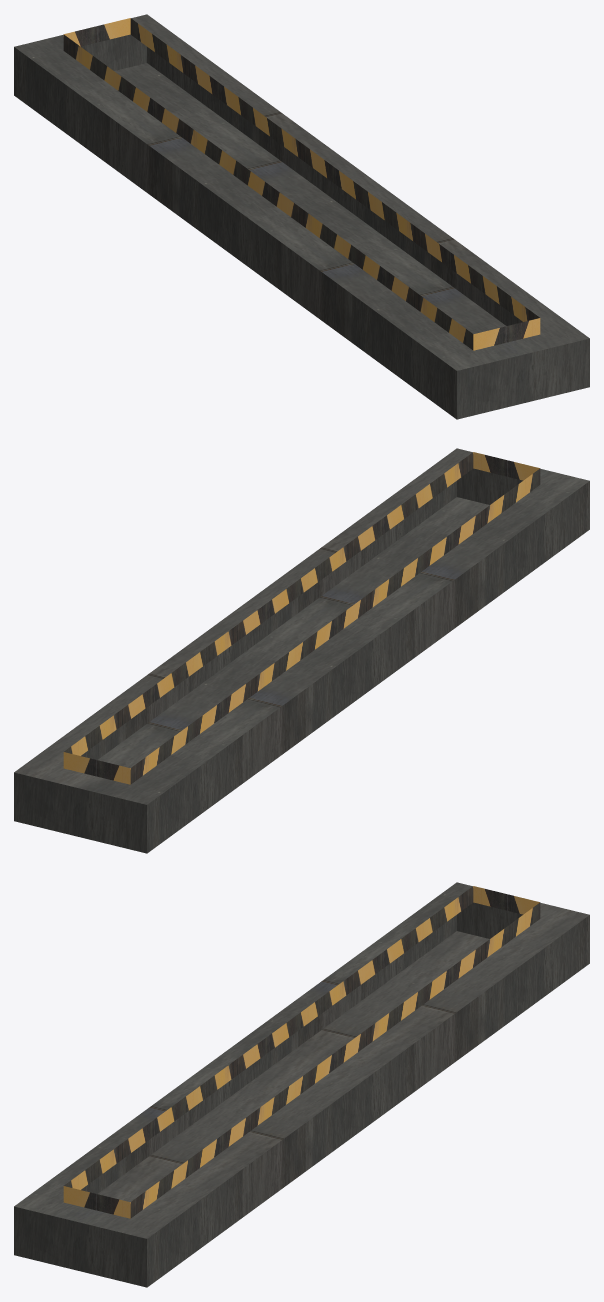
The model's file is light.FBX.
The picture shows the model from 3 angles, top to bottom: view 1: azimuth 30°, elevation 25°; view 2: azimuth 150°, elevation 25°; view 3: azimuth 330°, elevation 25°; orthographic projection.
Visible parts, largest first — view 1: Light; view 2: Light; view 3: Light.
Part boxes in pixels (left/top/right/bottom): Light: left=14, top=14, right=589, bottom=419; Light: left=14, top=448, right=589, bottom=853; Light: left=14, top=882, right=589, bottom=1287.
Size of the model in its own units: 8.65 by 49.85 by 4.05.
